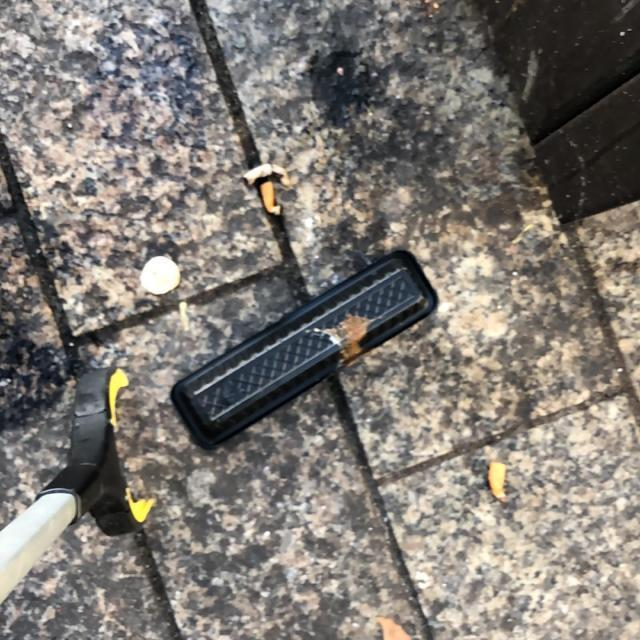Plastic: (168, 247, 442, 456)
